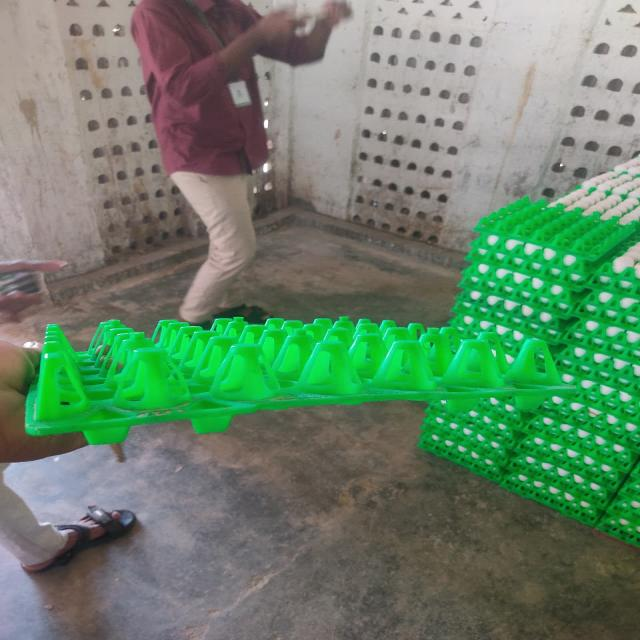egg_tray: (451, 173, 639, 524), (29, 318, 573, 434), (49, 0, 195, 256), (54, 0, 198, 255), (347, 0, 486, 244), (420, 400, 637, 524), (153, 318, 506, 392), (525, 342, 639, 488), (467, 198, 639, 294), (501, 424, 637, 524), (455, 259, 636, 334), (467, 206, 639, 284), (501, 424, 627, 524), (521, 392, 639, 490), (454, 264, 594, 343), (475, 198, 637, 262), (519, 403, 637, 490), (566, 242, 639, 364), (565, 243, 639, 362), (505, 437, 621, 512), (508, 436, 628, 508), (566, 267, 639, 383), (419, 398, 521, 481), (450, 277, 570, 346), (558, 320, 639, 419), (523, 410, 637, 474), (467, 234, 599, 286), (531, 390, 639, 452), (463, 262, 583, 316), (501, 468, 609, 525), (453, 289, 572, 339), (551, 158, 639, 225), (560, 348, 639, 422), (457, 281, 570, 330), (425, 401, 518, 460), (453, 303, 562, 353), (580, 206, 639, 296), (419, 422, 505, 482), (427, 398, 525, 448), (553, 174, 639, 226), (558, 345, 639, 397), (450, 310, 529, 360), (557, 178, 639, 224), (589, 226, 639, 297), (597, 464, 639, 544), (563, 320, 639, 362), (571, 374, 638, 420), (474, 196, 547, 238), (576, 291, 639, 331), (597, 486, 639, 545), (597, 231, 639, 290), (589, 250, 639, 296), (576, 156, 639, 192), (469, 398, 522, 435), (257, 58, 277, 150), (421, 418, 467, 458), (0, 271, 45, 296), (254, 161, 275, 210), (617, 464, 639, 500), (550, 444, 593, 460), (545, 354, 556, 378), (545, 334, 562, 348), (519, 438, 533, 450), (531, 342, 544, 350), (497, 329, 506, 340), (200, 347, 207, 360), (634, 480, 639, 498), (531, 205, 541, 214), (113, 327, 131, 332), (547, 334, 553, 344), (94, 340, 100, 350), (631, 159, 639, 166), (520, 379, 534, 383), (616, 362, 625, 368), (519, 265, 529, 270), (118, 431, 125, 438), (541, 400, 549, 406), (200, 362, 208, 368), (601, 276, 610, 281), (620, 202, 627, 208), (636, 282, 639, 296), (493, 316, 501, 321), (507, 214, 513, 220), (509, 405, 515, 410), (457, 459, 463, 464), (609, 329, 615, 334), (555, 262, 561, 267), (627, 272, 634, 276), (545, 228, 549, 235), (525, 424, 532, 428), (263, 2, 269, 6), (565, 236, 569, 242), (635, 234, 639, 239), (623, 518, 627, 523), (491, 468, 495, 473), (348, 385, 353, 389), (625, 256, 630, 260), (630, 249, 634, 254), (622, 300, 627, 304), (601, 300, 607, 303), (632, 482, 636, 486), (501, 222, 505, 226), (442, 406, 446, 410), (61, 64, 63, 72), (555, 224, 559, 228), (517, 336, 521, 340), (567, 354, 571, 358), (527, 350, 532, 353), (574, 276, 577, 280), (617, 179, 621, 182), (551, 396, 555, 399), (484, 473, 488, 476), (491, 474, 495, 477), (561, 473, 565, 476), (457, 308, 460, 311), (633, 454, 636, 457), (552, 256, 555, 259), (619, 382, 621, 386), (518, 244, 522, 246), (526, 238, 530, 240), (439, 446, 443, 448), (466, 426, 470, 428), (479, 408, 483, 410), (621, 168, 625, 170), (630, 336, 632, 340), (60, 141, 63, 143), (571, 256, 574, 258), (477, 470, 480, 472), (459, 418, 461, 421), (487, 418, 490, 420), (523, 354, 526, 356), (629, 258, 634, 259), (95, 442, 100, 443), (638, 520, 639, 525), (529, 426, 531, 428), (627, 269, 629, 271), (623, 191, 627, 192), (545, 402, 547, 404), (559, 398, 561, 400), (630, 171, 632, 173), (519, 478, 521, 480), (319, 386, 321, 388), (590, 442, 592, 444), (624, 360, 627, 361), (507, 349, 508, 352), (536, 334, 539, 335), (573, 274, 576, 275), (477, 229, 480, 230), (527, 412, 528, 414), (516, 203, 517, 205), (607, 514, 609, 515), (441, 417, 442, 419), (310, 387, 311, 389), (567, 401, 568, 402), (518, 416, 519, 417), (505, 378, 506, 379), (636, 447, 637, 448), (639, 252, 639, 253), (634, 181, 635, 181), (627, 481, 628, 481), (581, 472, 582, 472), (507, 402, 507, 404), (138, 3, 139, 3), (569, 476, 570, 476), (639, 523, 639, 523), (638, 505, 640, 505), (525, 414, 525, 416), (572, 461, 573, 461), (232, 398, 236, 398), (289, 392, 290, 392), (598, 192, 602, 192)
